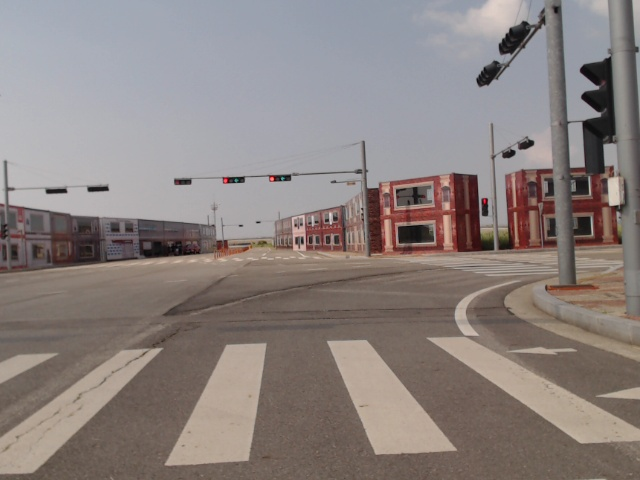left_green_4: (269, 176, 291, 182), (223, 178, 245, 183)
